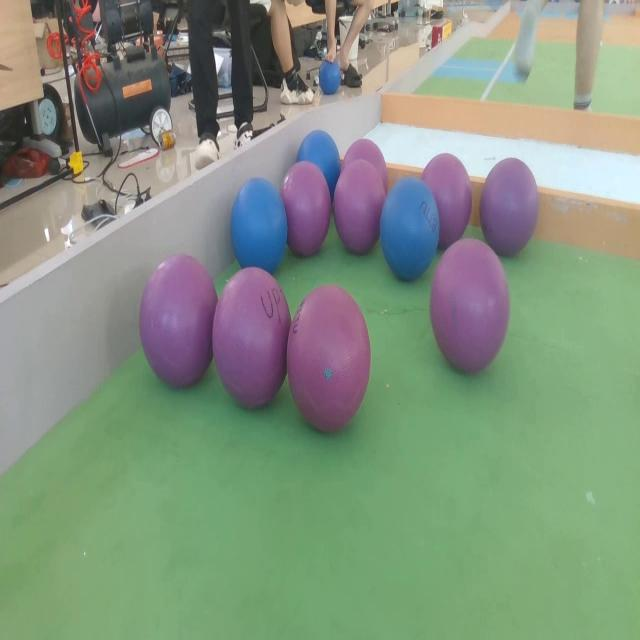blue: (381, 176, 440, 281), (231, 179, 286, 274), (297, 128, 341, 203)
invalid: (214, 265, 290, 412), (429, 235, 505, 378), (140, 252, 216, 391), (290, 284, 362, 419), (480, 159, 541, 256), (282, 157, 332, 266), (332, 160, 386, 252), (422, 148, 472, 238), (342, 138, 390, 198)
